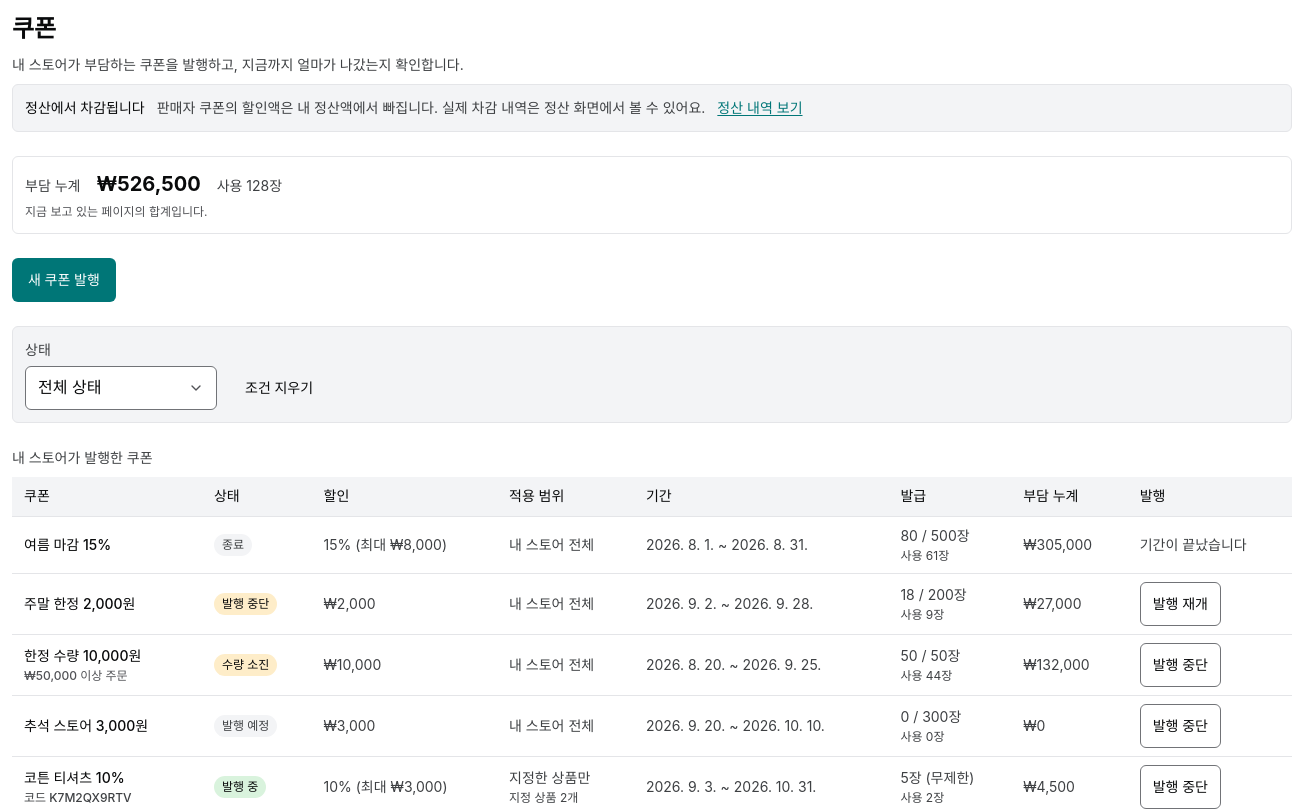
Test case: F2 — 부담 경고 › says the discount comes out of the settlement
What coordinates should you click on to do the following:
click the button "새 쿠폰 발행"
I would click on:
 (64, 280)
Its box is [12, 258, 116, 302].
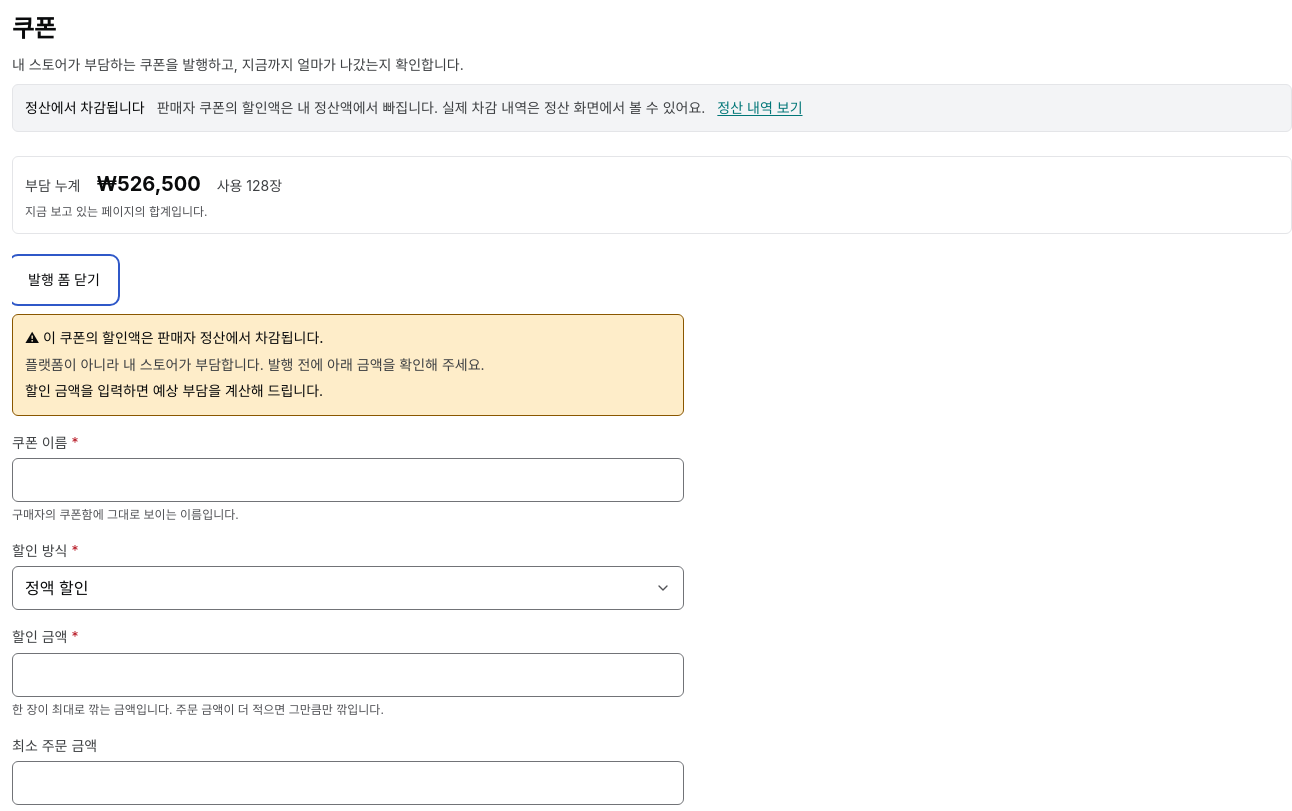
Result: the text "이 쿠폰의 할인액은 판매자 정산에서 차감됩니다." is shown at [43, 329, 324, 346]
Result: the text "플랫폼이 아니라 내 스토어가 부담합니다. 발행 전에 아래 금액을 확인해 주세요." is shown at [25, 356, 485, 373]
